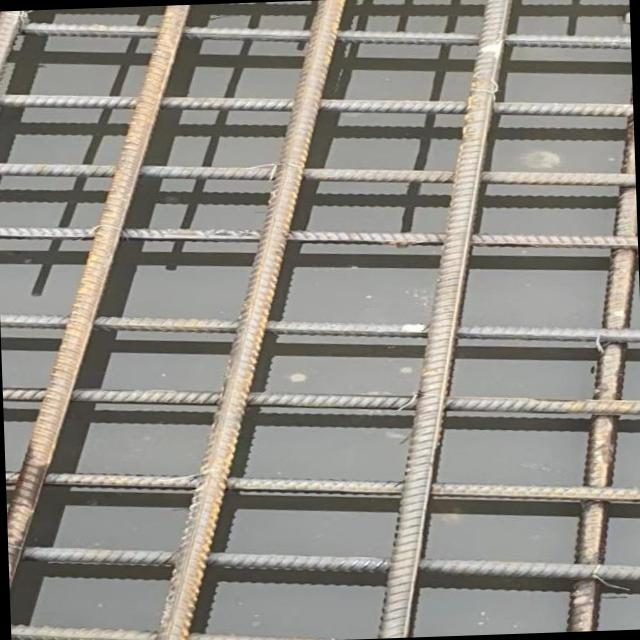ribbed bar: (131, 0, 372, 640), (0, 4, 212, 589), (354, 0, 539, 637), (21, 522, 640, 604), (7, 446, 640, 525), (2, 291, 640, 365), (4, 364, 640, 438), (0, 0, 630, 72), (552, 116, 640, 630), (0, 141, 635, 210), (0, 203, 637, 271), (0, 72, 633, 140), (12, 610, 372, 640), (0, 10, 31, 85)
